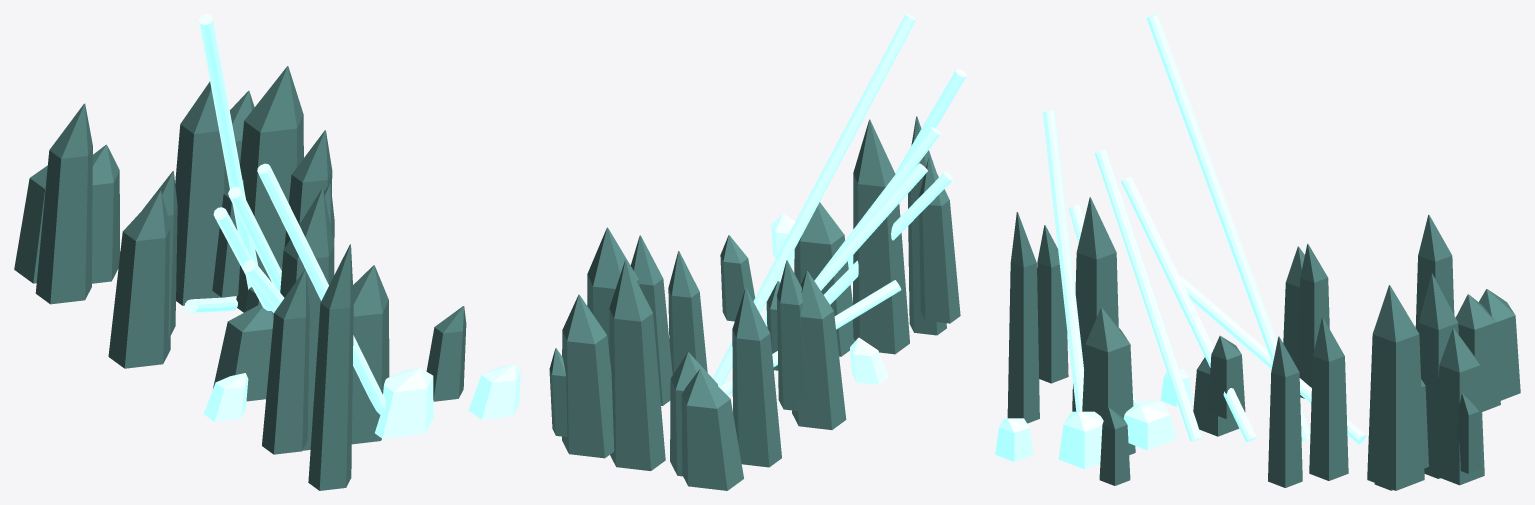
File: seam.glb
The picture shows the model from 3 angles, left to right: view 1: azimuth 30°, elevation 25°; view 2: azimuth 150°, elevation 25°; view 3: azimuth 270°, elevation 25°; orthographic projection. The views are drawn at different scales.
Parts seen in each view (by area): view 1: Living seam.024, Living seam.033; view 2: Living seam.024, Living seam.033; view 3: Living seam.024, Living seam.033.
Boxes of the visible parts, bbox=[...] form: Living seam.024: bbox=[14, 66, 466, 490]; Living seam.033: bbox=[184, 14, 520, 438]; Living seam.024: bbox=[549, 116, 960, 490]; Living seam.033: bbox=[712, 14, 966, 395]; Living seam.024: bbox=[1007, 197, 1520, 490]; Living seam.033: bbox=[995, 14, 1366, 469].
Bounding box in the file's own units: 1.37 × 2.32 × 2.85.
